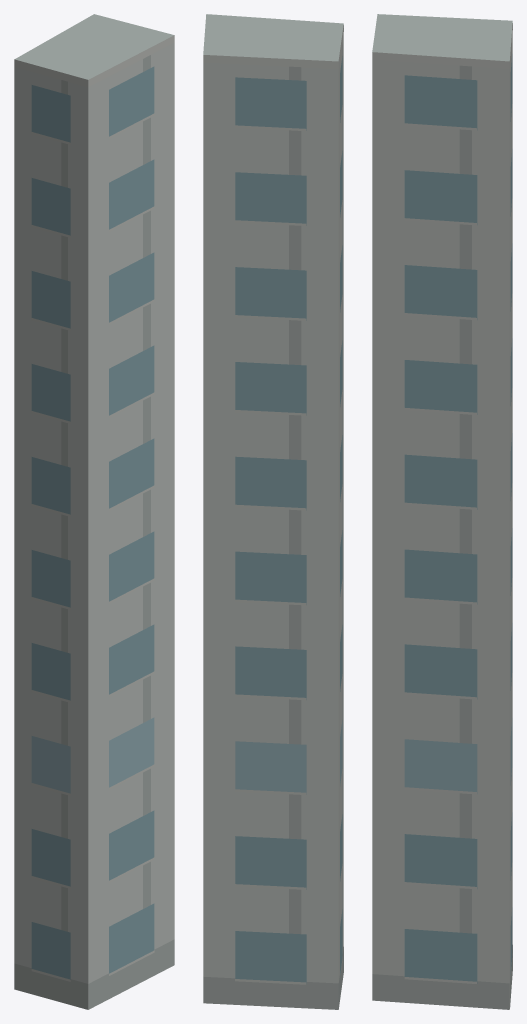
File: survey-upis-32832912.glb
3 views of the same model, side by side, from view 1: azimuth 30°, elevation 25°; view 2: azimuth 150°, elevation 25°; view 3: azimuth 330°, elevation 25° (orthographic).
Parts seen in each view (by area): view 1: survey-upis-32832912.tmp; view 2: survey-upis-32832912.tmp; view 3: survey-upis-32832912.tmp.
Boxes of the visible parts, x1,y1,x2,y2 form: survey-upis-32832912.tmp: (14,14,174,1009); survey-upis-32832912.tmp: (203,14,343,1009); survey-upis-32832912.tmp: (372,14,512,1009).
Size of the model in its own units: 4.98 by 30.5 by 3.93.
